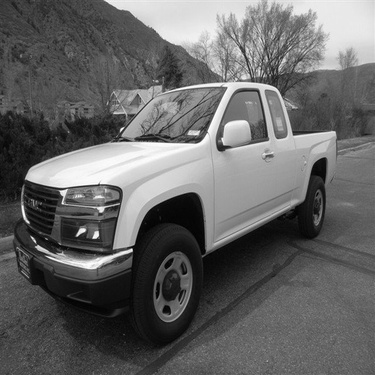car: (12, 57, 343, 333)
